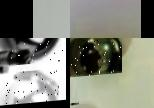ironball: (0, 69, 59, 107), (70, 38, 122, 77), (0, 38, 64, 66), (0, 38, 16, 81)
